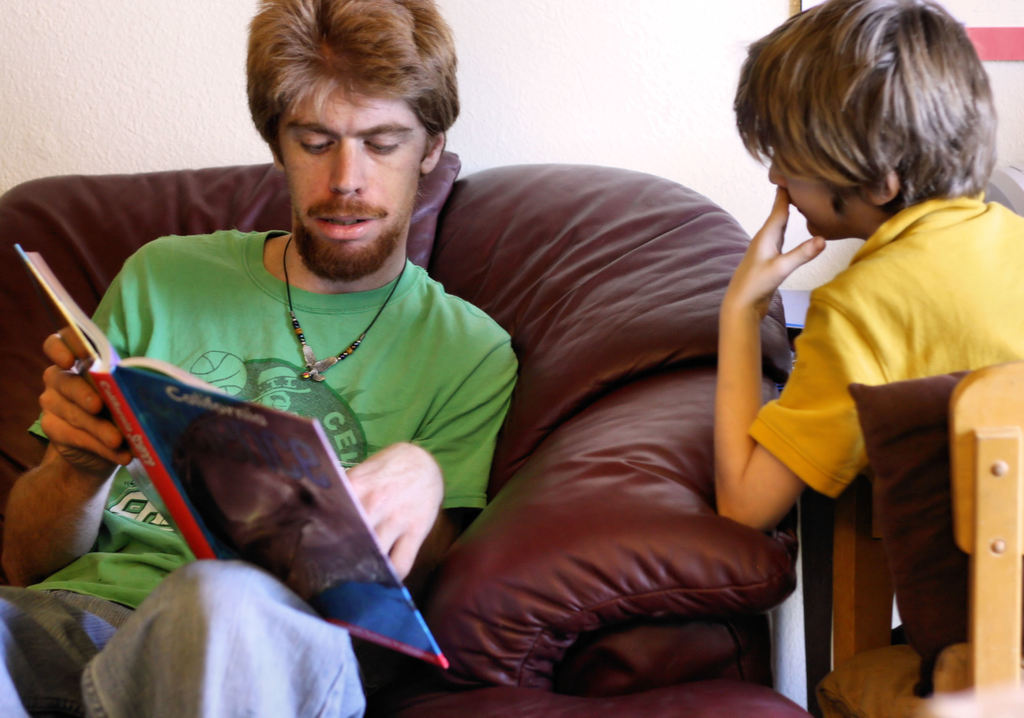Couch: (0, 164, 801, 717)
